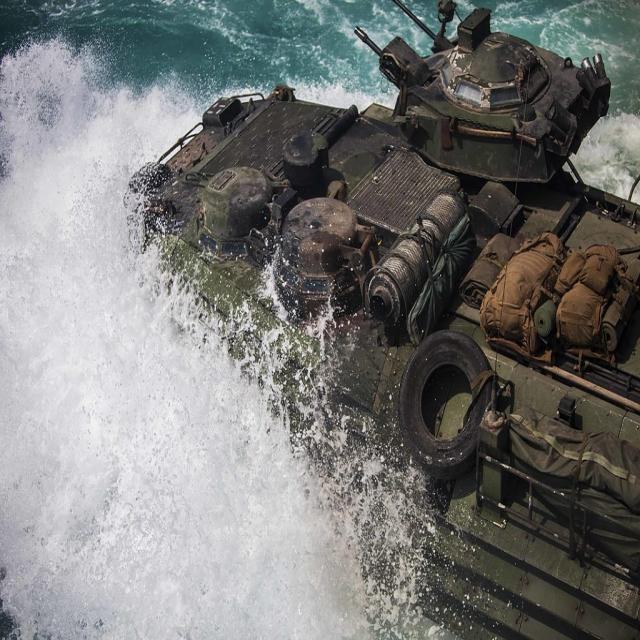tank: (122, 0, 640, 639)
